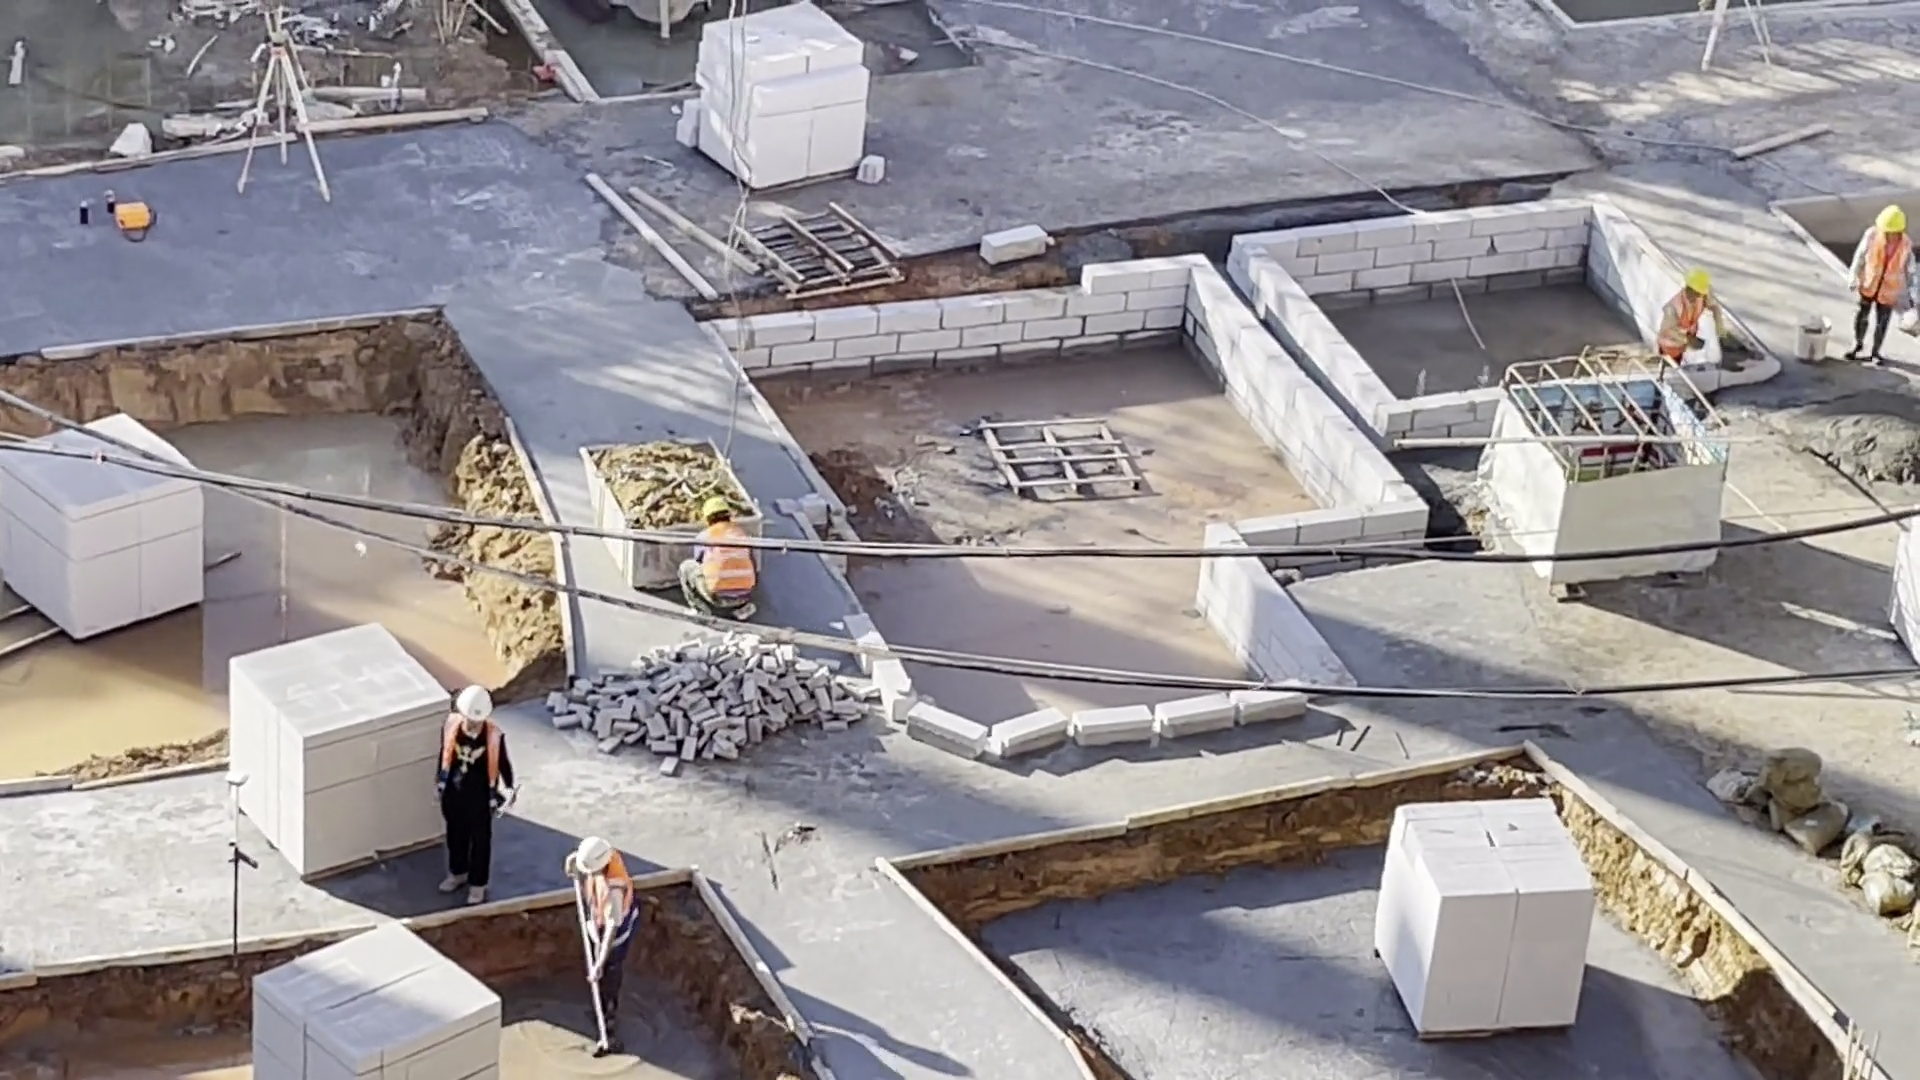brick: (1373, 794, 1598, 1046), (223, 615, 431, 876), (249, 922, 505, 1080), (673, 9, 867, 202), (5, 490, 215, 639)
helmet: (454, 684, 497, 722), (570, 835, 613, 872), (1873, 203, 1910, 233), (696, 493, 731, 518), (1683, 269, 1713, 294)
hopper: (574, 435, 706, 530)
person: (424, 684, 526, 901), (562, 832, 644, 1061), (1839, 202, 1917, 371), (674, 494, 760, 616), (1654, 268, 1731, 368)
vest: (434, 714, 502, 804), (581, 865, 638, 946), (1857, 229, 1908, 304), (1659, 290, 1706, 361), (697, 549, 755, 592)
